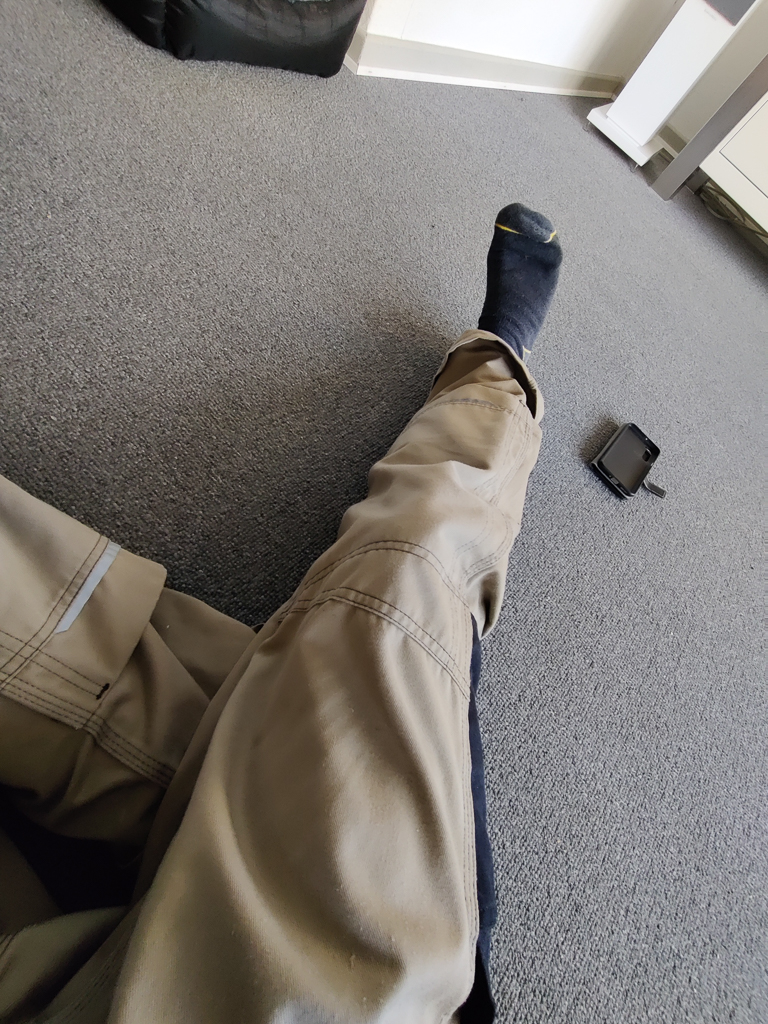Humanoid: (0, 196, 579, 1024)
